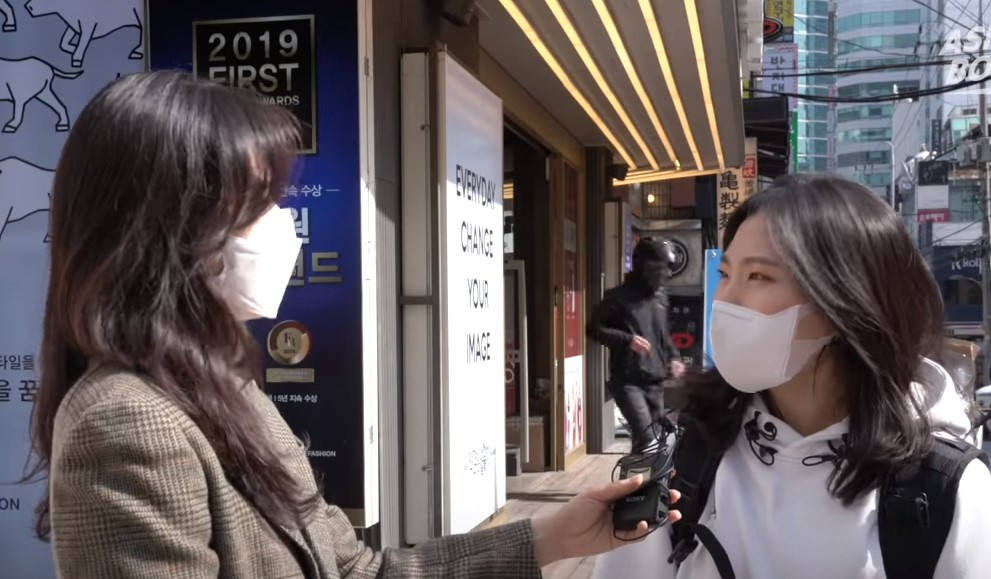face_with_mask: (101, 78, 300, 331), (708, 181, 885, 397), (635, 234, 675, 297)
